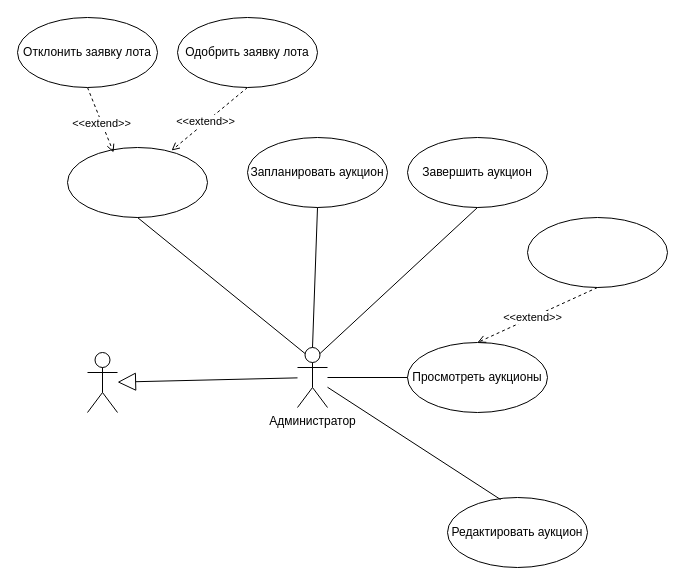
This 685x585 diagram has some shape labels left out. Each missing label, with the box of its shape:
Авторизованный пользователь: (86, 352, 118, 412)
Просмотреть лоты: (526, 216, 668, 288)
Редактировать лоты: (66, 146, 208, 218)
